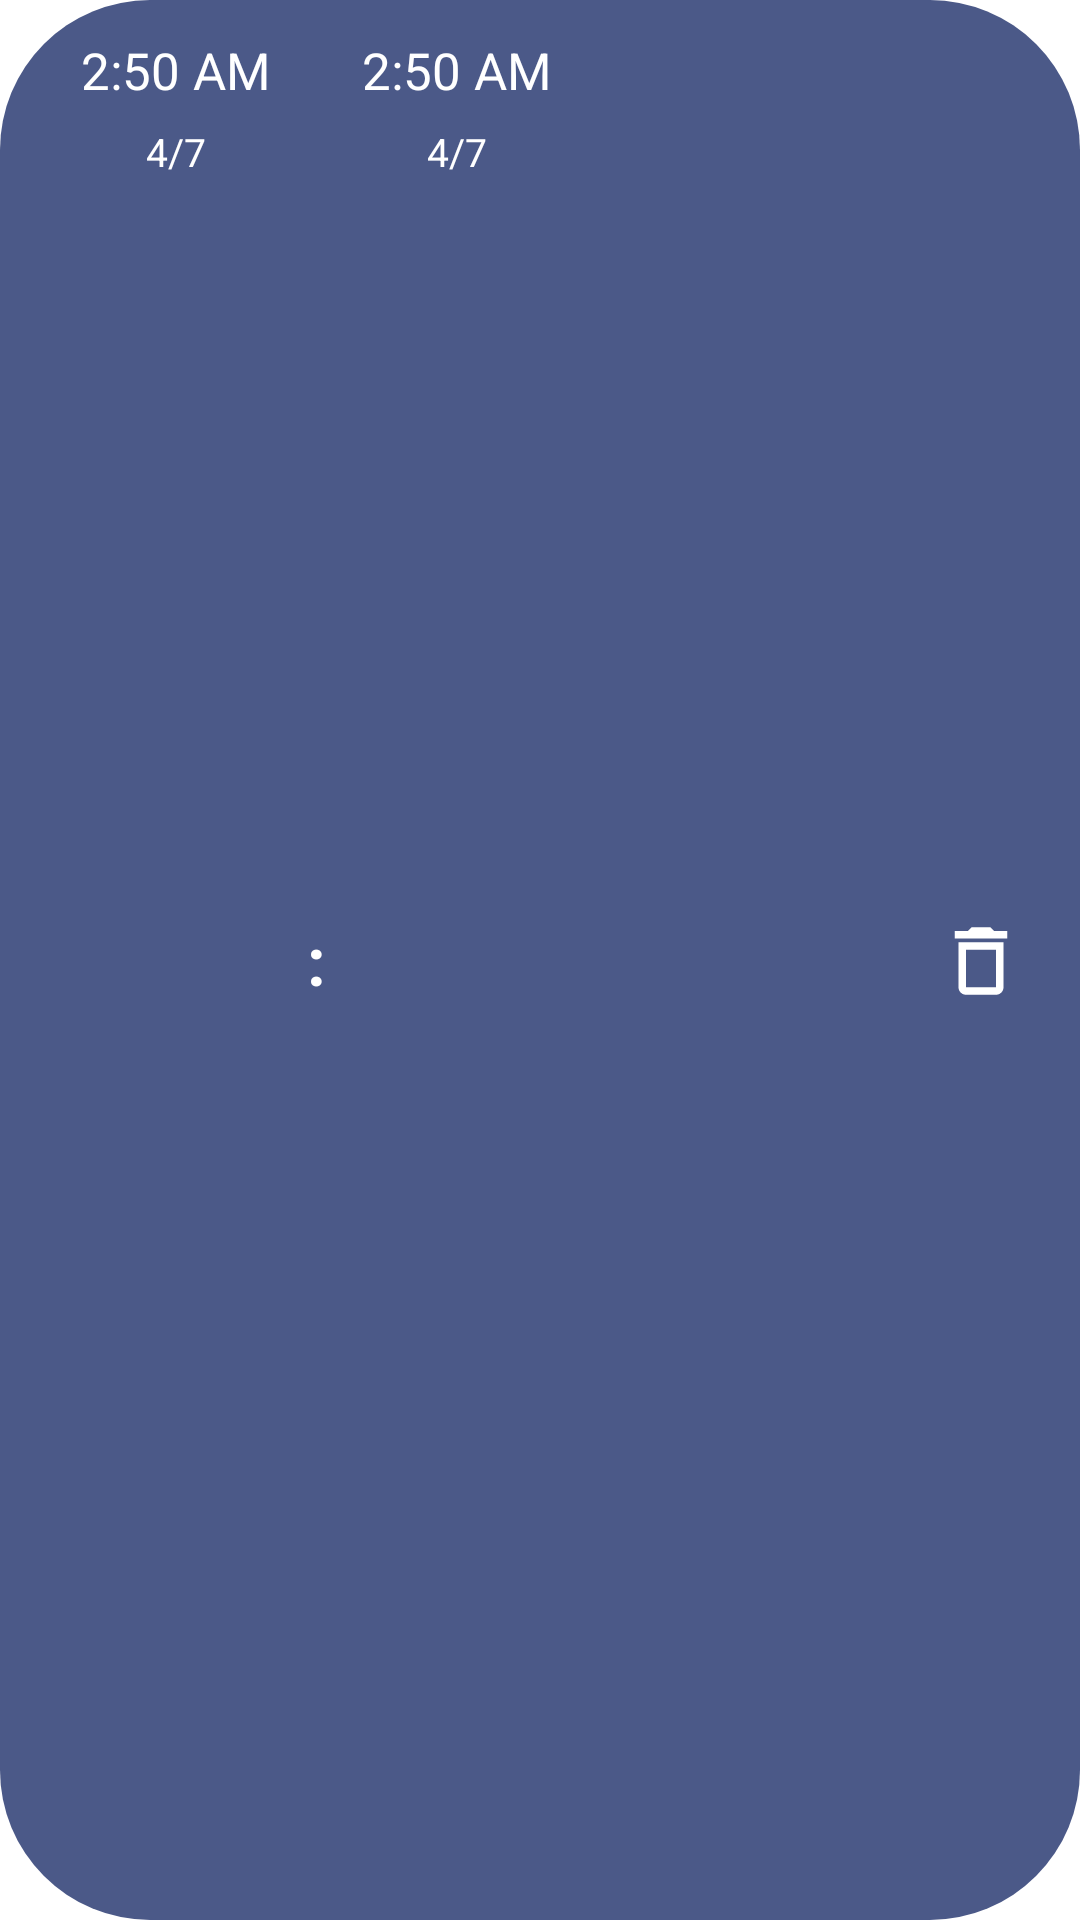

Locate icon controls on the screen. Image size 1080px x 1920px, boxes as (x1, y1, x2, y2).
delete: (954, 927, 1008, 995)
